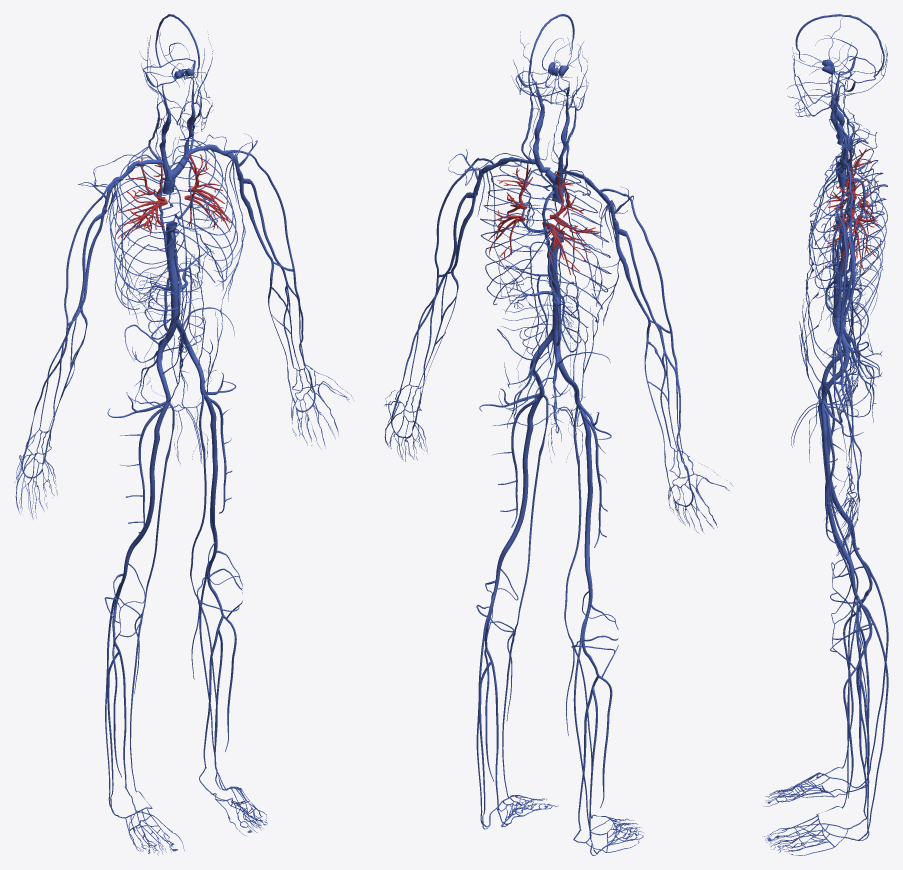
The model's file is male-venous.glb.
The picture shows the model from 3 angles, left to right: view 1: azimuth 30°, elevation 25°; view 2: azimuth 150°, elevation 25°; view 3: azimuth 270°, elevation 25°; orthographic projection. The views are drawn at different scales.
Visible parts, largest first — view 1: Right_superior_intercostal_vein, Left_superior_intercostal_vein, Great_saphenous_vein_L, Great_saphenous_vein_R, Femoral_vein_R, Femoral_vein_L, Cephalic_vein_R, Cephalic_vein_L; view 2: Right_superior_intercostal_vein, Left_superior_intercostal_vein, Great_saphenous_vein_L, Great_saphenous_vein_R, Femoral_vein_L, Femoral_vein_R, Cephalic_vein_R, Basilic_vein_R, Cephalic_vein_L; view 3: Left_superior_intercostal_vein, Right_superior_intercostal_vein, Femoral_vein_L, Great_saphenous_vein_L, Cephalic_vein_L, Great_saphenous_vein_R, Small_saphenous_vein_L, Small_saphenous_vein_R, Basilic_vein_L, Posterior_tibial_veins_L, Femoral_vein_R, Anterior_tibial_veins_L (+16 smaller).
Boxes of the visible parts, left/top/right/bottom form: Right_superior_intercostal_vein: left=109, top=146, right=182, bottom=309; Left_superior_intercostal_vein: left=154, top=137, right=237, bottom=290; Great_saphenous_vein_L: left=190, top=395, right=226, bottom=790; Great_saphenous_vein_R: left=130, top=403, right=174, bottom=807; Femoral_vein_R: left=133, top=387, right=170, bottom=545; Femoral_vein_L: left=200, top=378, right=217, bottom=526; Cephalic_vein_R: left=25, top=176, right=123, bottom=448; Cephalic_vein_L: left=223, top=150, right=311, bottom=379; Right_superior_intercostal_vein: left=542, top=171, right=611, bottom=327; Left_superior_intercostal_vein: left=480, top=158, right=555, bottom=305; Great_saphenous_vein_L: left=502, top=395, right=548, bottom=798; Great_saphenous_vein_R: left=564, top=405, right=601, bottom=818; Femoral_vein_L: left=505, top=383, right=544, bottom=548; Femoral_vein_R: left=574, top=391, right=592, bottom=566; Cephalic_vein_R: left=600, top=188, right=689, bottom=477; Basilic_vein_R: left=614, top=229, right=666, bottom=467; Cephalic_vein_L: left=395, top=158, right=494, bottom=405; Left_superior_intercostal_vein: left=809, top=158, right=887, bottom=322; Right_superior_intercostal_vein: left=810, top=139, right=887, bottom=278; Femoral_vein_L: left=821, top=388, right=849, bottom=559; Great_saphenous_vein_L: left=817, top=402, right=867, bottom=814; Cephalic_vein_L: left=832, top=191, right=861, bottom=492; Great_saphenous_vein_R: left=816, top=385, right=867, bottom=777; Small_saphenous_vein_L: left=845, top=604, right=888, bottom=840; Small_saphenous_vein_R: left=845, top=560, right=888, bottom=788; Basilic_vein_L: left=836, top=234, right=858, bottom=477; Posterior_tibial_veins_L: left=849, top=666, right=866, bottom=828; Femoral_vein_R: left=821, top=370, right=849, bottom=521; Anterior_tibial_veins_L: left=843, top=645, right=867, bottom=798.
Size of the model in its own units: 0.7509 by 1.71 by 0.2403.
